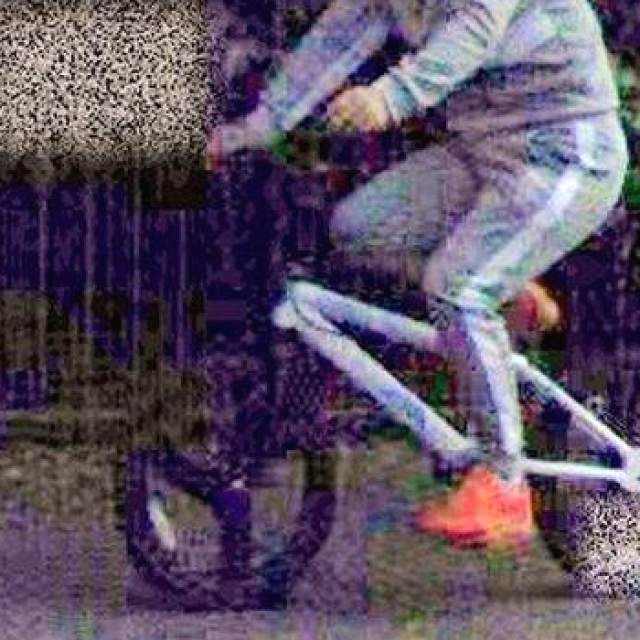bicycle: (81, 23, 631, 601)
